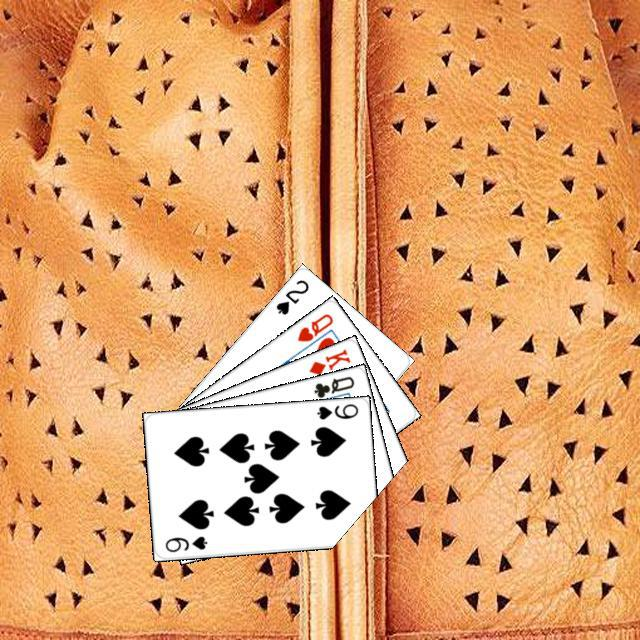2s: (271, 275, 310, 317)
9s: (160, 531, 209, 554), (312, 399, 360, 421)
Kd: (304, 344, 352, 377)
Qc: (307, 371, 356, 405)
Qh: (292, 308, 335, 344)
